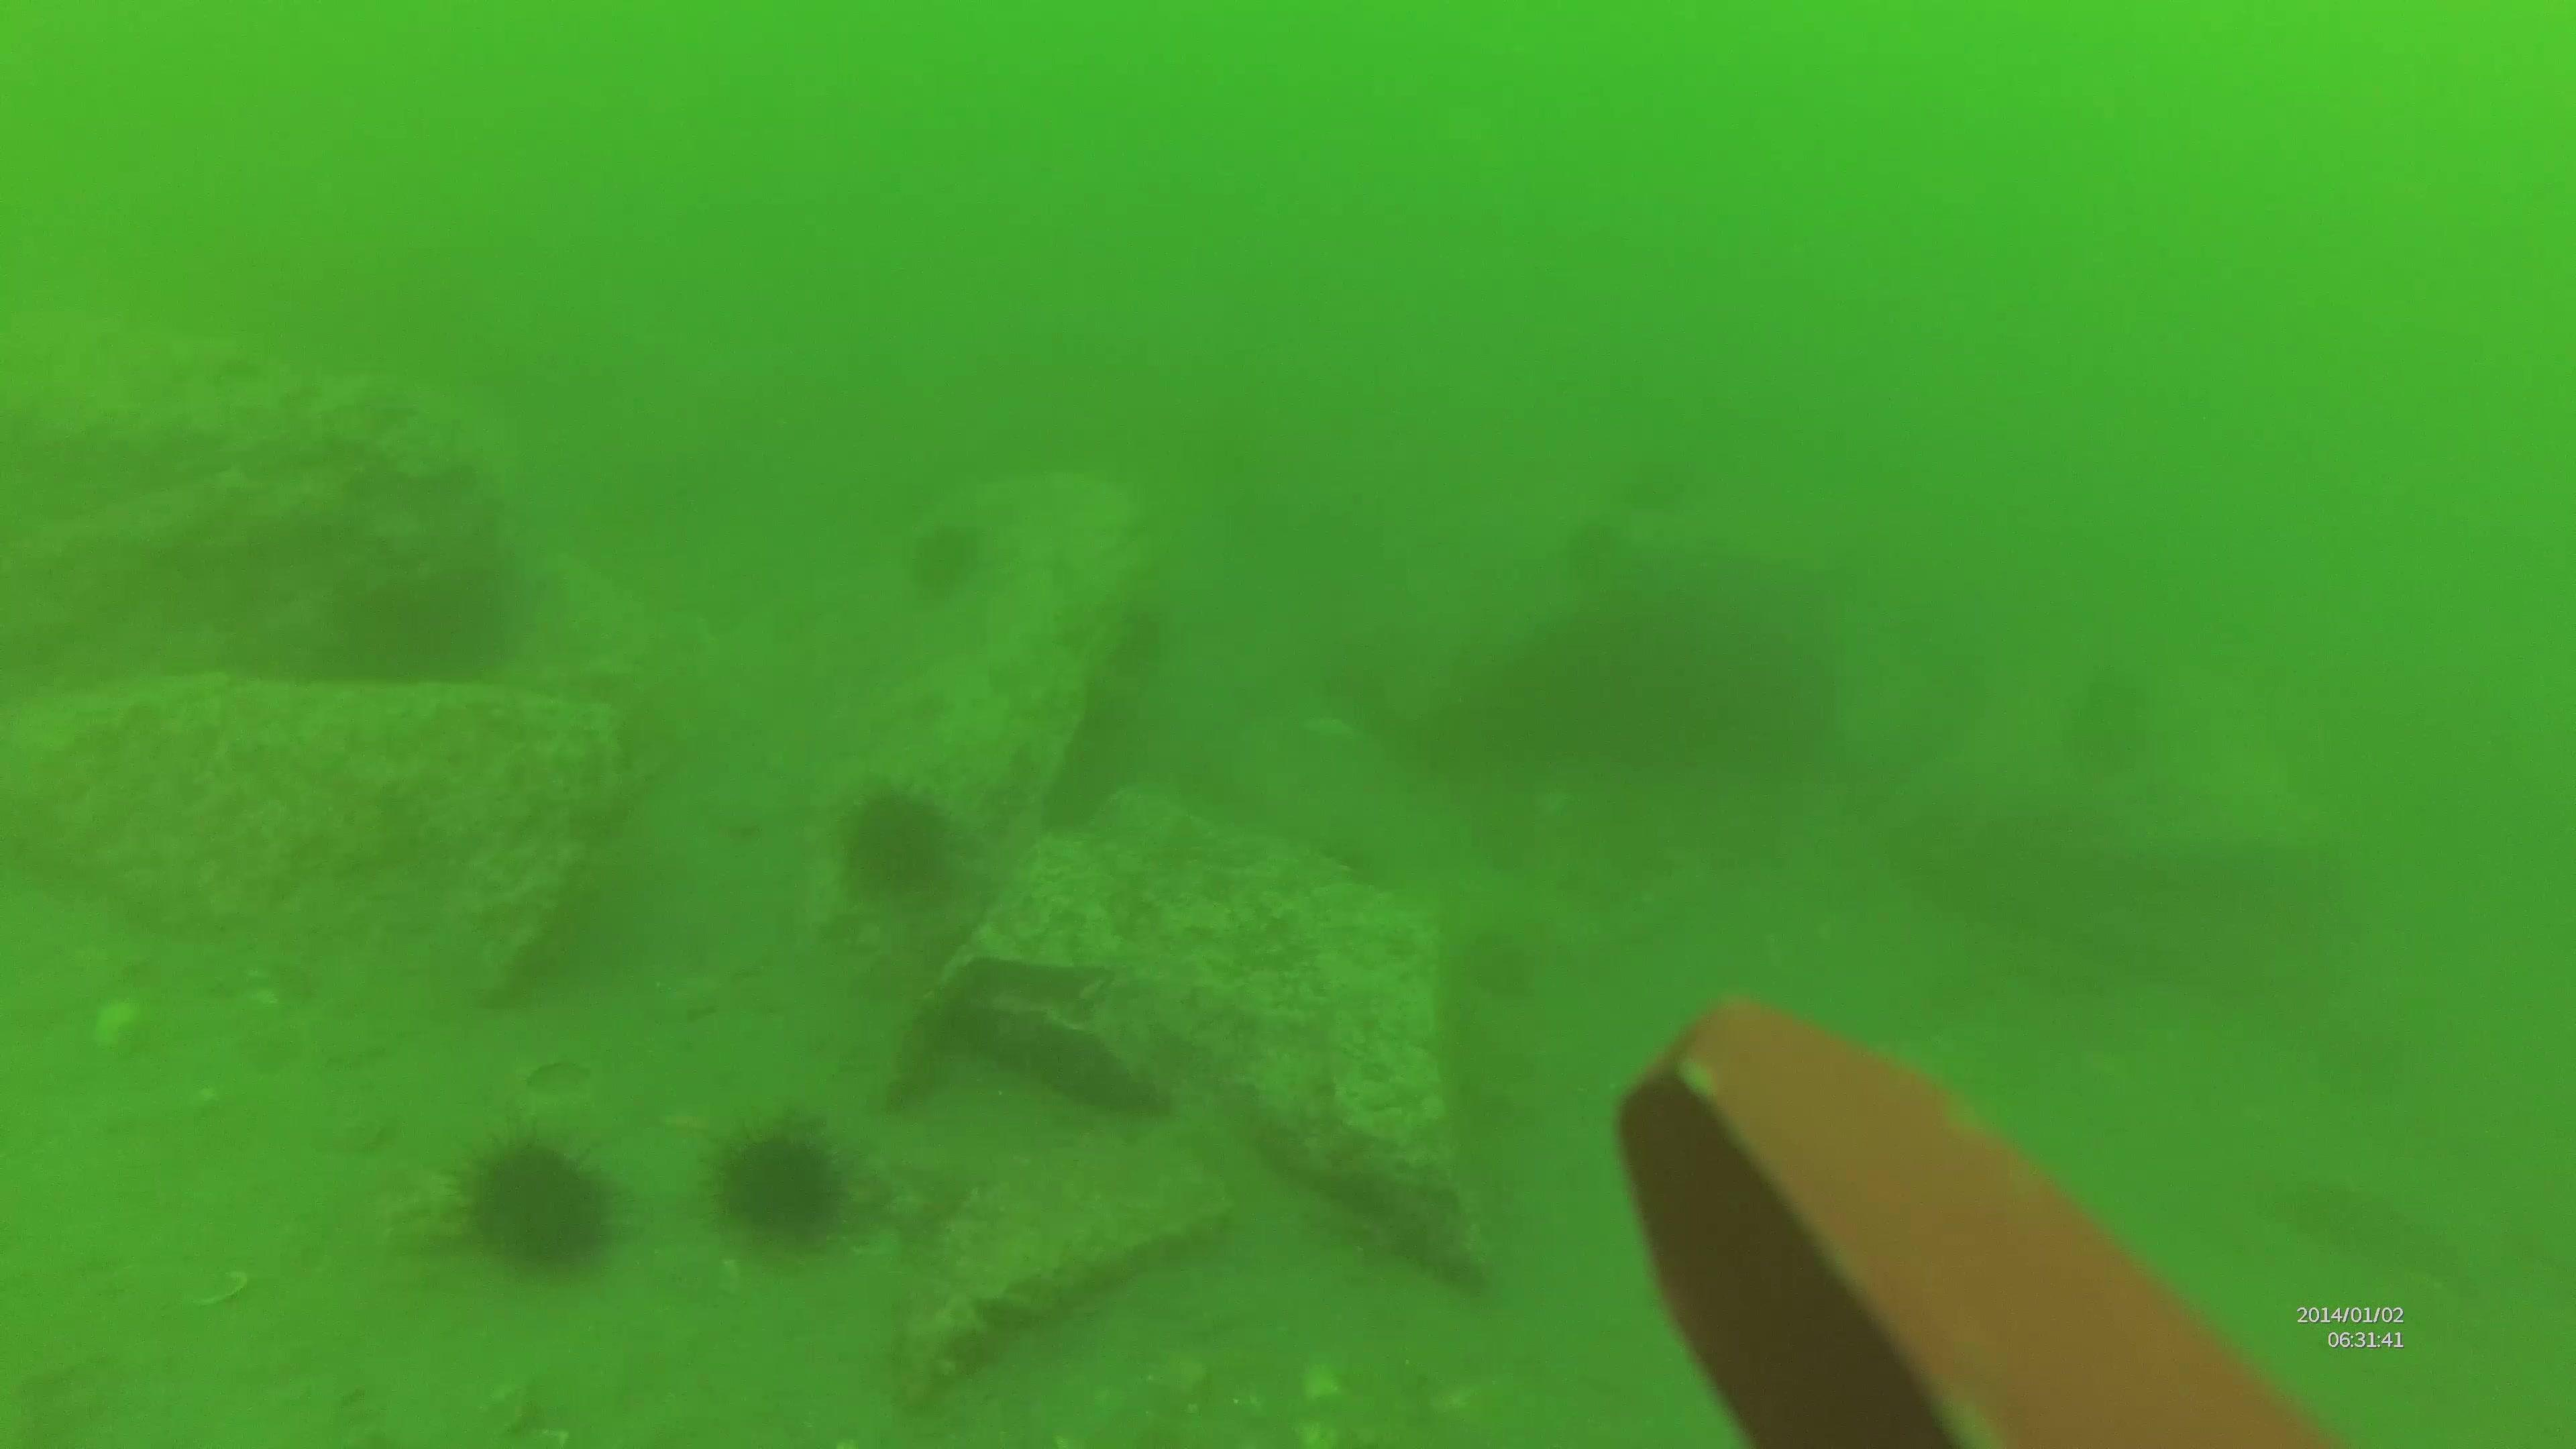echinus: (455, 1141, 616, 1269), (708, 1122, 847, 1247), (840, 777, 954, 904), (906, 525, 982, 591)
